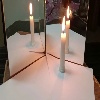fire: (62, 16, 66, 36)
